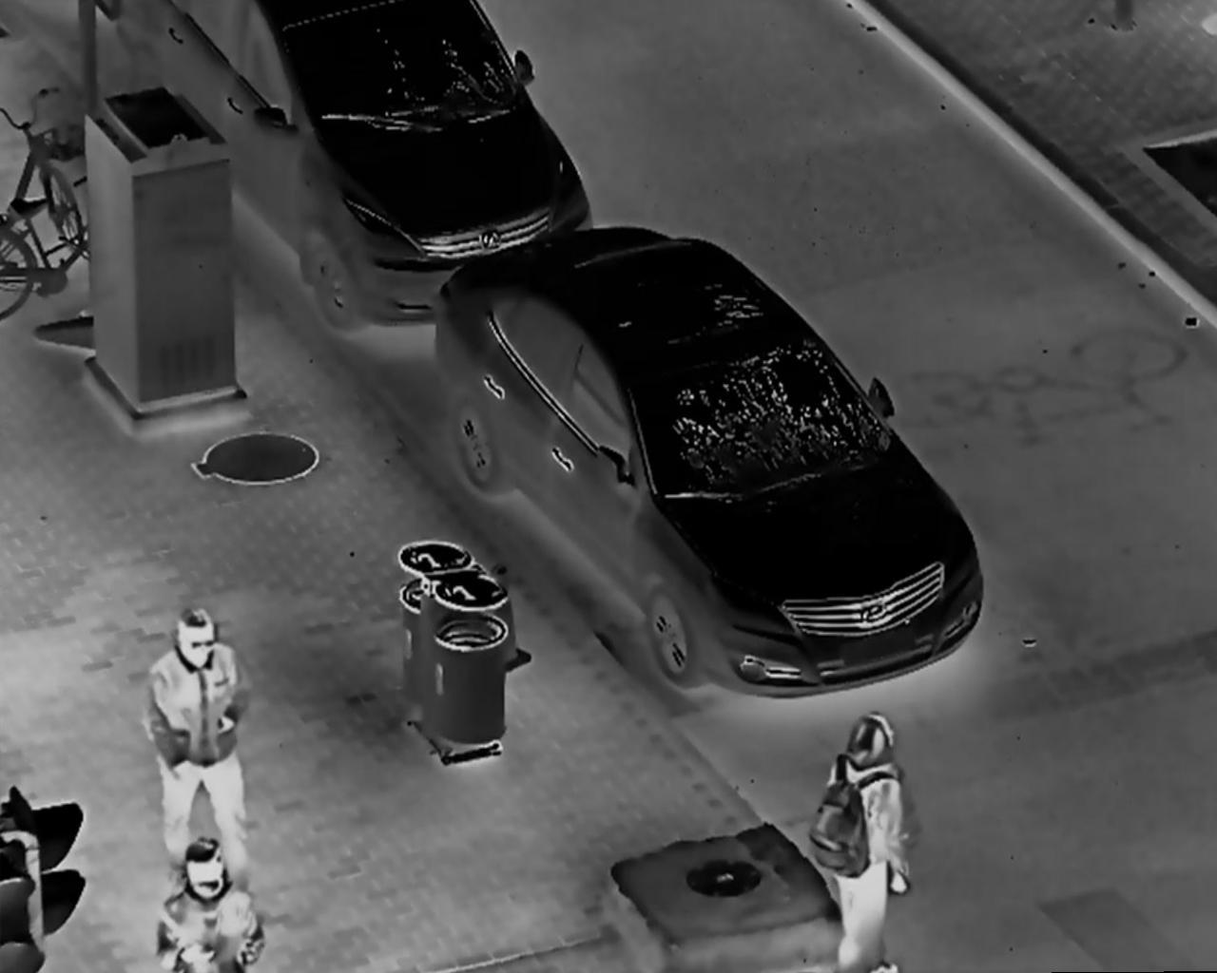person: (141, 603, 265, 915), (809, 701, 927, 973), (150, 837, 265, 973)
